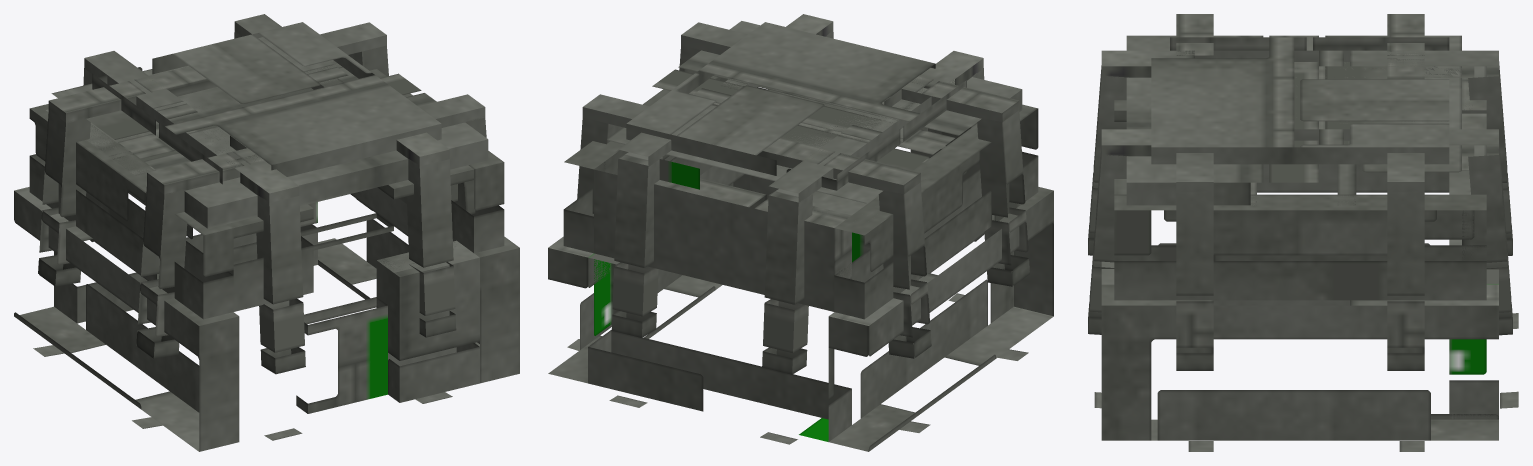
Rendered from beehive_kiln.obj.
3 renders of one model, left to right at view 1: azimuth 30°, elevation 25°; view 2: azimuth 150°, elevation 25°; view 3: azimuth 270°, elevation 25°, orthographic. The views are drawn at different scales.
Parts seen in each view (by area): view 1: Mesh_12, Mesh_0, Mesh_2, Mesh_6, Mesh_17, Mesh_1, Mesh_20, Mesh_22, Mesh_9, Mesh_7, Mesh_8, Mesh_21 (+10 smaller); view 2: Mesh_12, Mesh_0, Mesh_5, Mesh_4, Mesh_2, Mesh_6, Mesh_24, Mesh_25, Mesh_7, Mesh_1, Mesh_8, Mesh_21 (+5 smaller); view 3: Mesh_1, Mesh_3, Mesh_12, Mesh_6, Mesh_13, Mesh_14, Mesh_21, Mesh_25, Mesh_11, Mesh_4, Mesh_22, Mesh_23 (+5 smaller).
Part boxes in pixels (x1,y1,x2,y2): Mesh_12: (92, 22, 441, 190); Mesh_0: (14, 187, 239, 451); Mesh_2: (29, 104, 233, 319); Mesh_6: (46, 60, 488, 228); Mesh_17: (376, 240, 479, 402); Mesh_1: (318, 187, 519, 383); Mesh_20: (256, 194, 305, 440); Mesh_22: (406, 158, 456, 403); Mesh_9: (296, 297, 387, 413); Mesh_7: (132, 182, 187, 428); Mesh_8: (33, 110, 90, 356); Mesh_21: (84, 51, 299, 202); Mesh_12: (626, 22, 975, 190); Mesh_0: (828, 187, 1053, 451); Mesh_5: (594, 162, 851, 311); Mesh_4: (588, 253, 851, 441); Mesh_2: (834, 104, 1038, 319); Mesh_6: (607, 21, 1022, 215); Mesh_24: (760, 189, 812, 444); Mesh_25: (609, 152, 662, 407); Mesh_7: (977, 110, 1029, 360); Mesh_1: (548, 166, 749, 383); Mesh_8: (878, 182, 931, 432); Mesh_21: (769, 51, 983, 203); Mesh_1: (1101, 284, 1498, 440); Mesh_3: (1114, 194, 1486, 300); Mesh_12: (1151, 37, 1449, 164); Mesh_6: (1126, 35, 1472, 205); Mesh_13: (1176, 192, 1213, 451); Mesh_14: (1387, 192, 1424, 451); Mesh_21: (1101, 50, 1498, 77); Mesh_25: (1468, 140, 1518, 408); Mesh_11: (1387, 14, 1424, 192); Mesh_4: (1449, 269, 1498, 419); Mesh_22: (1088, 144, 1127, 408); Mesh_23: (1101, 129, 1498, 156).
Bounding box in the file's own units: 4.39 × 3 × 4.39.
